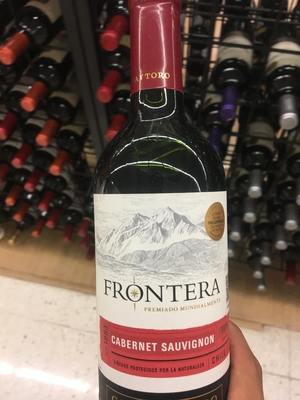frontera cabernet sauvignon: (96, 18, 233, 389)
